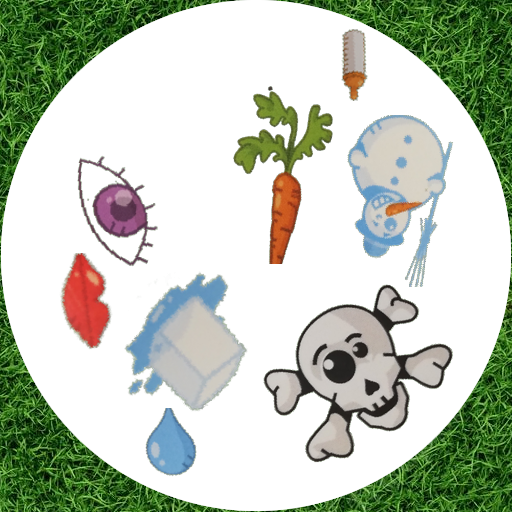bottle_icon: (317, 28, 390, 101)
carrot_icon: (204, 84, 384, 264)
cube_icon: (114, 270, 276, 432)
eye_icon: (53, 149, 175, 271)
lips_icon: (32, 253, 129, 350)
raindrop_icon: (137, 408, 206, 477)
skull_icon: (254, 262, 465, 473)
snowman_icon: (321, 115, 493, 287)
